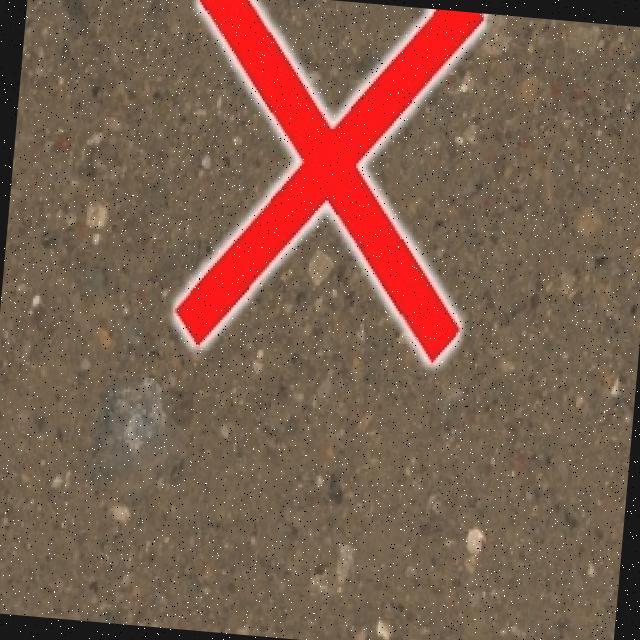x_marker: (168, 0, 484, 366)
